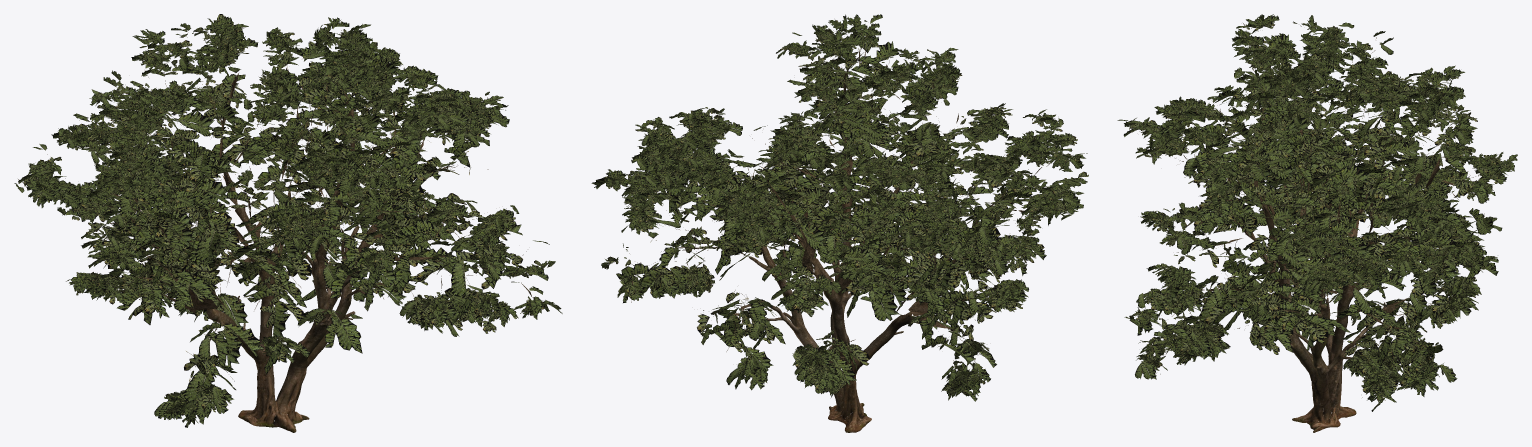
The model's file is tree_jacaranda.glb.
The picture shows the model from 3 angles, left to right: view 1: azimuth 30°, elevation 25°; view 2: azimuth 150°, elevation 25°; view 3: azimuth 270°, elevation 25°; orthographic projection. The views are drawn at different scales.
Size of the model in its own units: 24.62 by 19.52 by 19.05.
Materials: 3 (3 with a texture image).
